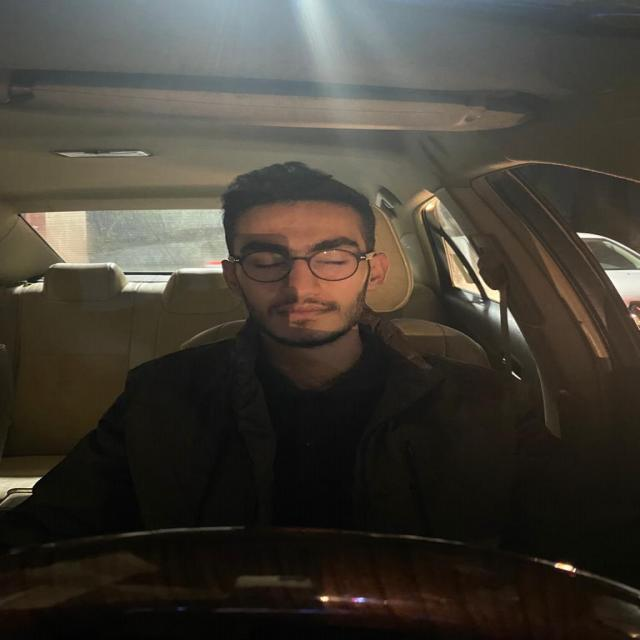drowsy: (212, 160, 390, 349)
